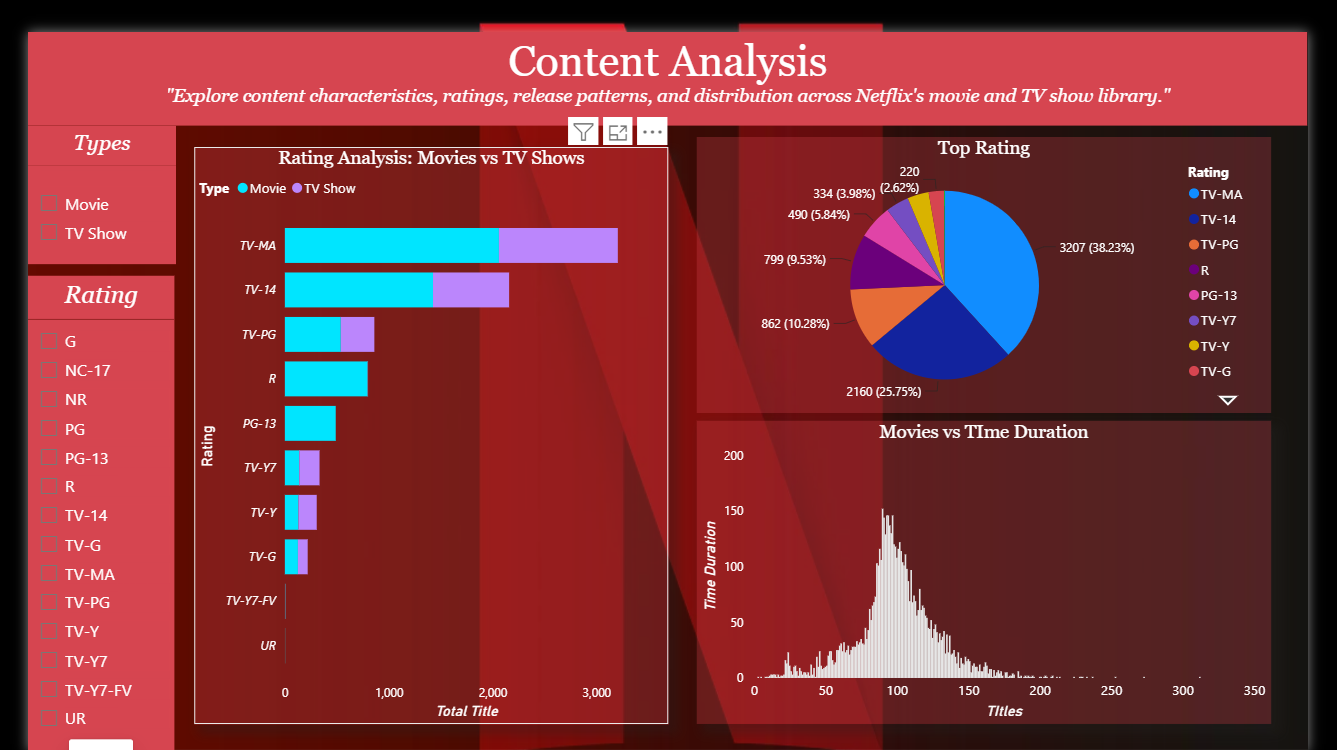

The page's visual inventory and layout, read from the dashboard file:
{"tool":"powerbi","page":{"name":"Page 2","canvas":[1280,720],"ordinal":1},"visuals":[{"type":"pieChart","title":"Top Rating","fields":{"Category":["netflix_cleaned_dataset.rating"],"Y":["CountNonNull(netflix_cleaned_dataset.show_id)"]},"box":[669.4,104.8,574.2,275.8],"z":0},{"type":"textbox","box":[0,0,1279.4,93.7],"z":1000},{"type":"barChart","title":"Rating Analysis: Movies vs TV Shows","fields":{"Category":["netflix_cleaned_dataset.rating"],"Y":["CountNonNull(netflix_cleaned_dataset.show_id)"],"Series":["netflix_cleaned_dataset.type"]},"box":[166.1,114.5,474.2,577.4],"z":2000},{"type":"slicer","fields":{"Values":["netflix_cleaned_dataset.rating"]},"box":[0,287.1,146.8,432.3],"z":3000},{"type":"slicer","fields":{"Values":["netflix_cleaned_dataset.type"]},"box":[0,133.9,148.4,98.4],"z":4000},{"type":"textbox","box":[0,93.5,148.4,40.3],"z":5000},{"type":"textbox","box":[0,243.5,146.8,43.5],"z":6000},{"type":"clusteredColumnChart","title":"Movies vs TIme Duration","fields":{"Category":["netflix_cleaned_dataset.Movie_Duration"],"Y":["CountNonNull(netflix_cleaned_dataset.show_id)"]},"box":[669.4,388.7,574.2,303.2],"z":7000}]}

Visuals, with their boxes in screenshot pixels (x1, y1, x2, y2), scaled from the page's 1280x720 canvas onto the 1337x750 screenshot:
"Top Rating" pieChart: locate(699, 109, 1299, 396)
textbox: locate(0, 0, 1336, 98)
"Rating Analysis: Movies vs TV Shows" barChart: locate(173, 119, 669, 721)
slicer - netflix_cleaned_dataset.rating: locate(0, 299, 153, 749)
slicer - netflix_cleaned_dataset.type: locate(0, 139, 155, 242)
textbox: locate(0, 97, 155, 139)
textbox: locate(0, 254, 153, 299)
"Movies vs TIme Duration" clusteredColumnChart: locate(699, 405, 1299, 721)
